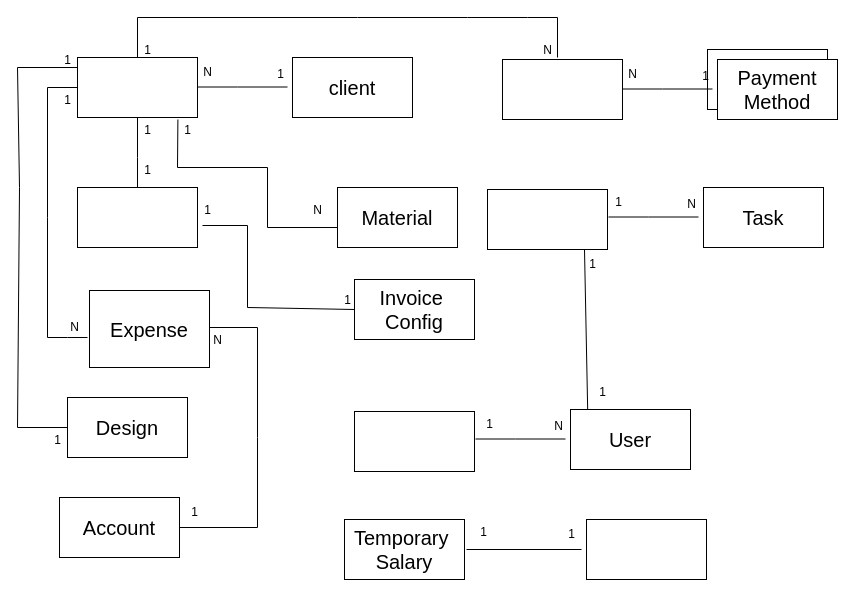
Some shapes in this 855 by 597 pixel diagram are drawn without their labels. The shapes that lost their labels are listed below. From the top down, each one's centre as x and y in pixels, then its label:
point 137,87: Project
point 562,89: payment
point 137,217: Budget
point 547,219: Employee
point 414,441: Role
point 646,549: Temporary Employee
